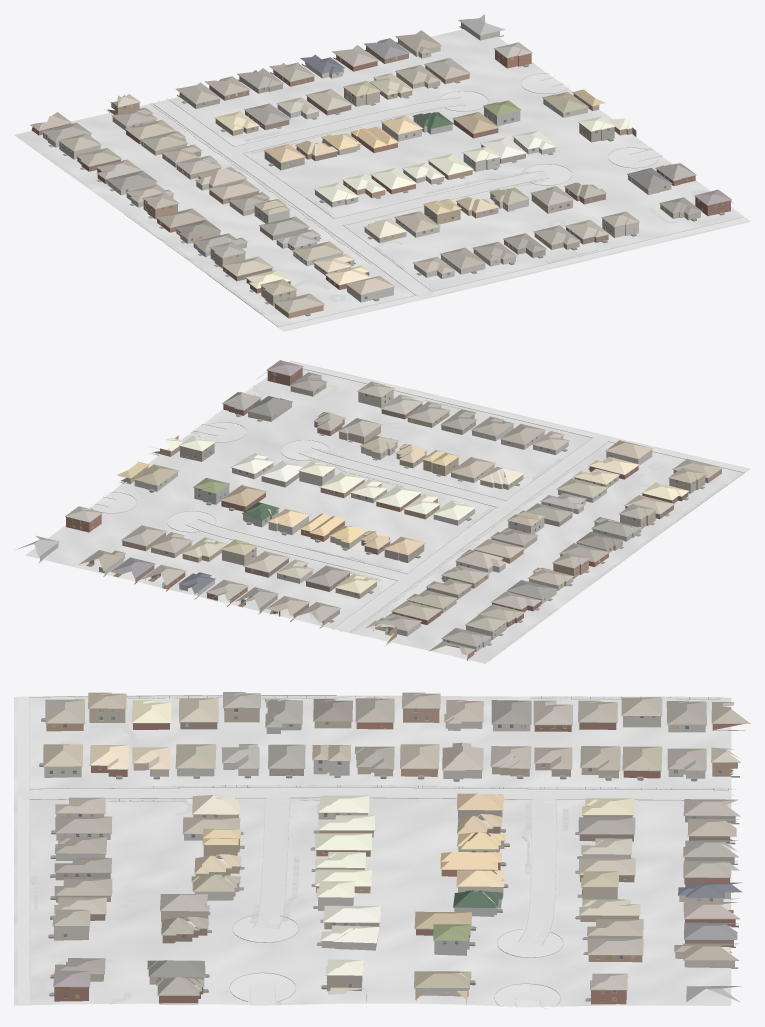
3 views of the same model, one above another, from view 1: azimuth 30°, elevation 25°; view 2: azimuth 150°, elevation 25°; view 3: azimuth 270°, elevation 25° (orthographic). The views are drawn at different scales.
Visible parts, largest first — view 1: ground, roof, concrete, wall, detail, wall_stone, walk, curb, wall_stucco, glass; view 2: ground, roof, concrete, wall, detail, wall_stone, walk, curb, wall_stucco, glass; view 3: ground, roof, concrete, wall, detail, wall_stone, walk, curb, wall_stucco, glass.
Part boxes in pixels (x1,y1,x2,y2): ground: (14, 29, 750, 331); roof: (31, 14, 731, 312); concrete: (155, 73, 747, 330); wall: (31, 46, 730, 318); detail: (30, 20, 733, 316); wall_stone: (43, 99, 587, 302); walk: (17, 103, 708, 314); curb: (124, 73, 743, 327); wall_stucco: (59, 22, 638, 275); glass: (34, 52, 724, 300); ground: (25, 360, 750, 663); roof: (15, 360, 722, 654); concrete: (89, 362, 749, 631); wall: (66, 368, 721, 660); detail: (39, 366, 722, 655); wall_stone: (134, 425, 652, 651); walk: (191, 384, 726, 661); curb: (90, 368, 744, 633); wall_stucco: (38, 389, 641, 639); glass: (73, 378, 693, 655); ground: (14, 695, 731, 1006); roof: (43, 692, 750, 1002); concrete: (17, 696, 735, 1009); wall: (46, 707, 745, 1005); detail: (39, 701, 746, 1001); wall_stone: (44, 722, 705, 996); walk: (31, 695, 731, 1005); curb: (29, 695, 735, 1006); wall_stucco: (54, 702, 739, 968); glass: (49, 708, 733, 1000).
Bounding box in the file's own units: 257 × 10.53 × 257.
